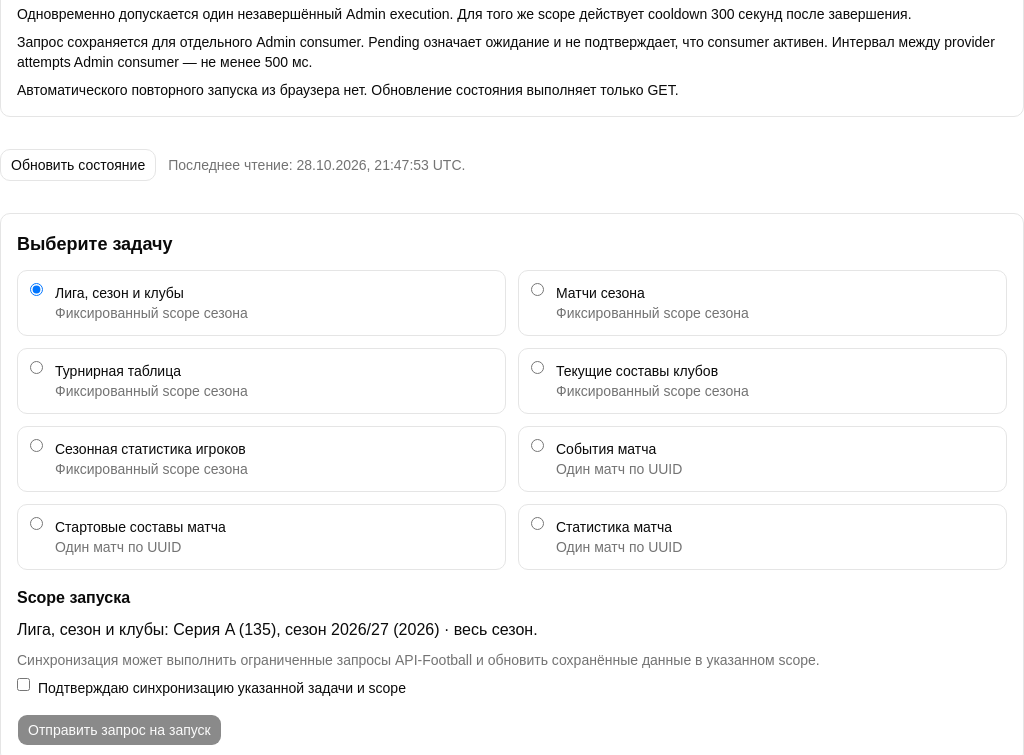
Test: Football synchronization component › confirms fixed scope for Турнирная таблица
Check: the button "Обновить состояние" is enabled, box [0,149,156,181]
Click the radio button labelled "Турнирная таблица Фиксированный scope сезона". click: click(36, 368)
box: [30,361,43,374]
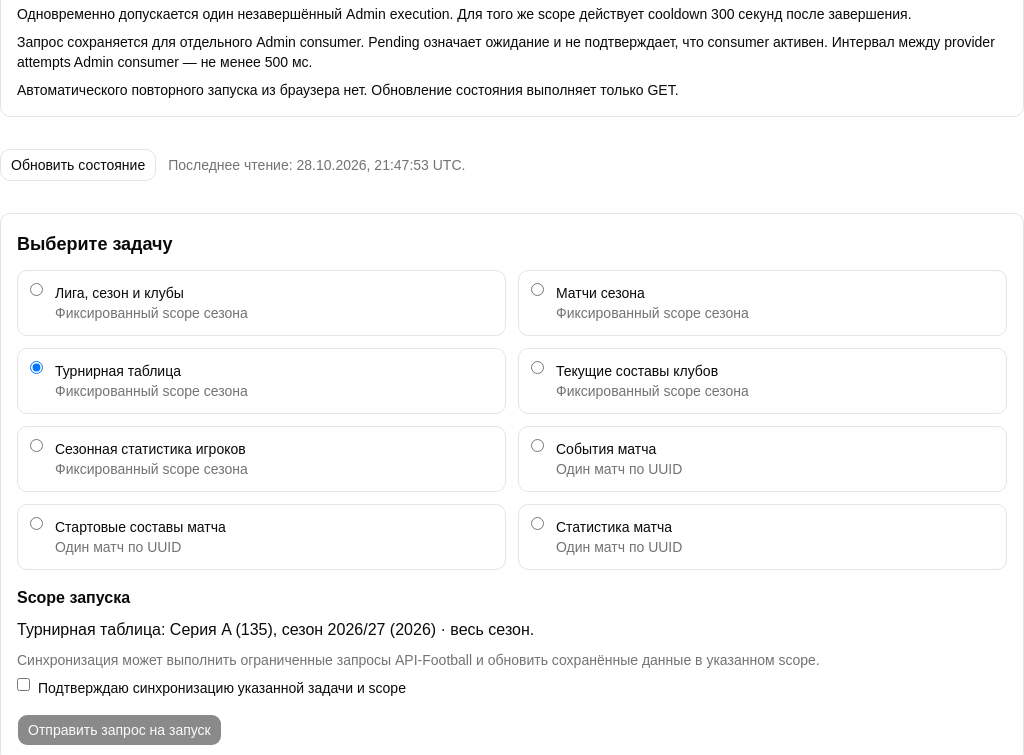
Check: the text "Серия A (135), сезон 2026/27 (2026) · весь сезон" is shown, box [170,621,530,638]
Click the checkbox labelled "Подтверждаю синхронизацию указанной задачи и scope". click: click(24, 684)
box: [17,678,30,691]
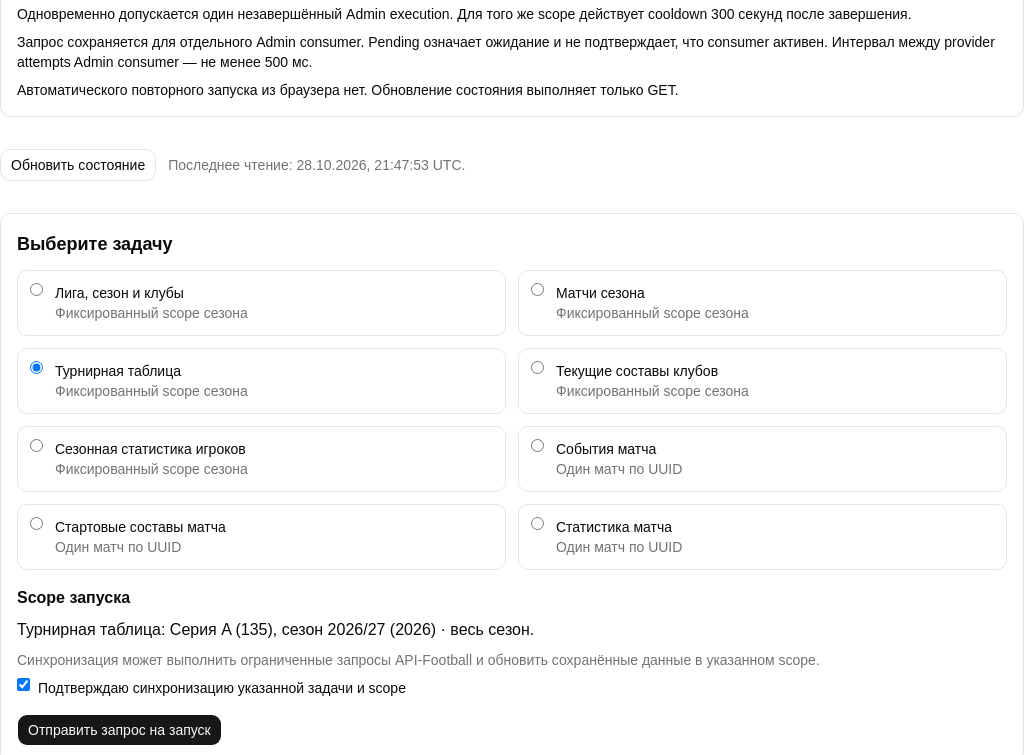
Click the button "Отправить запрос на запуск". click: click(119, 730)
box: [17,714,222,746]
(page scrolled)
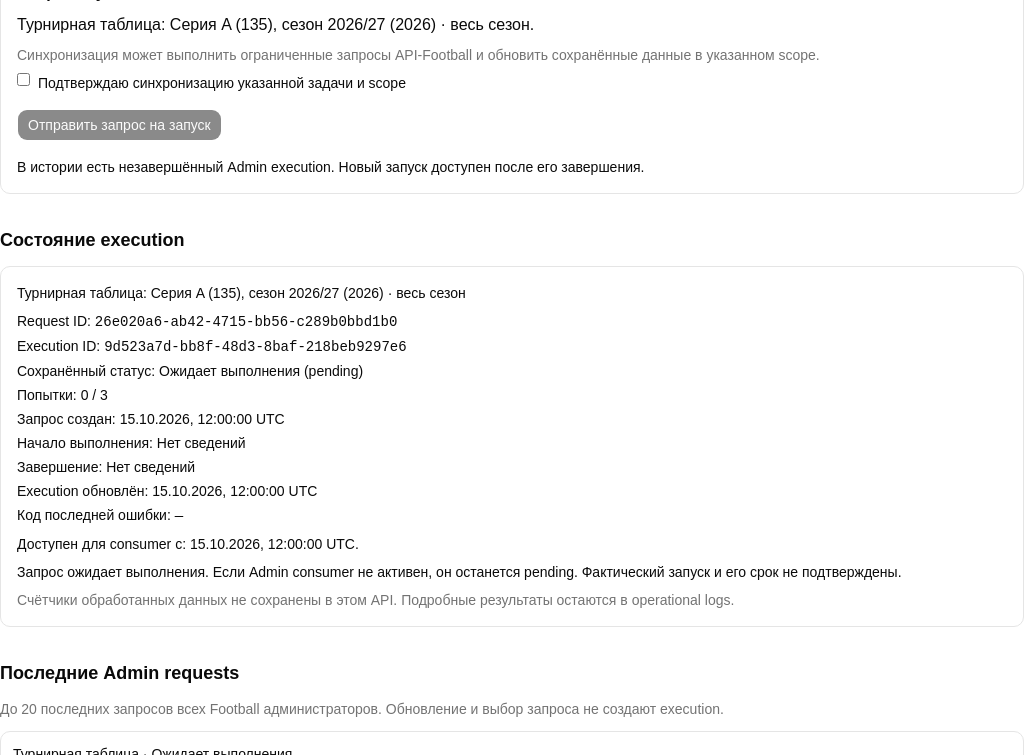
Check: the text "Ожидает выполнения (pending)" is shown, box [159,363,363,379]
